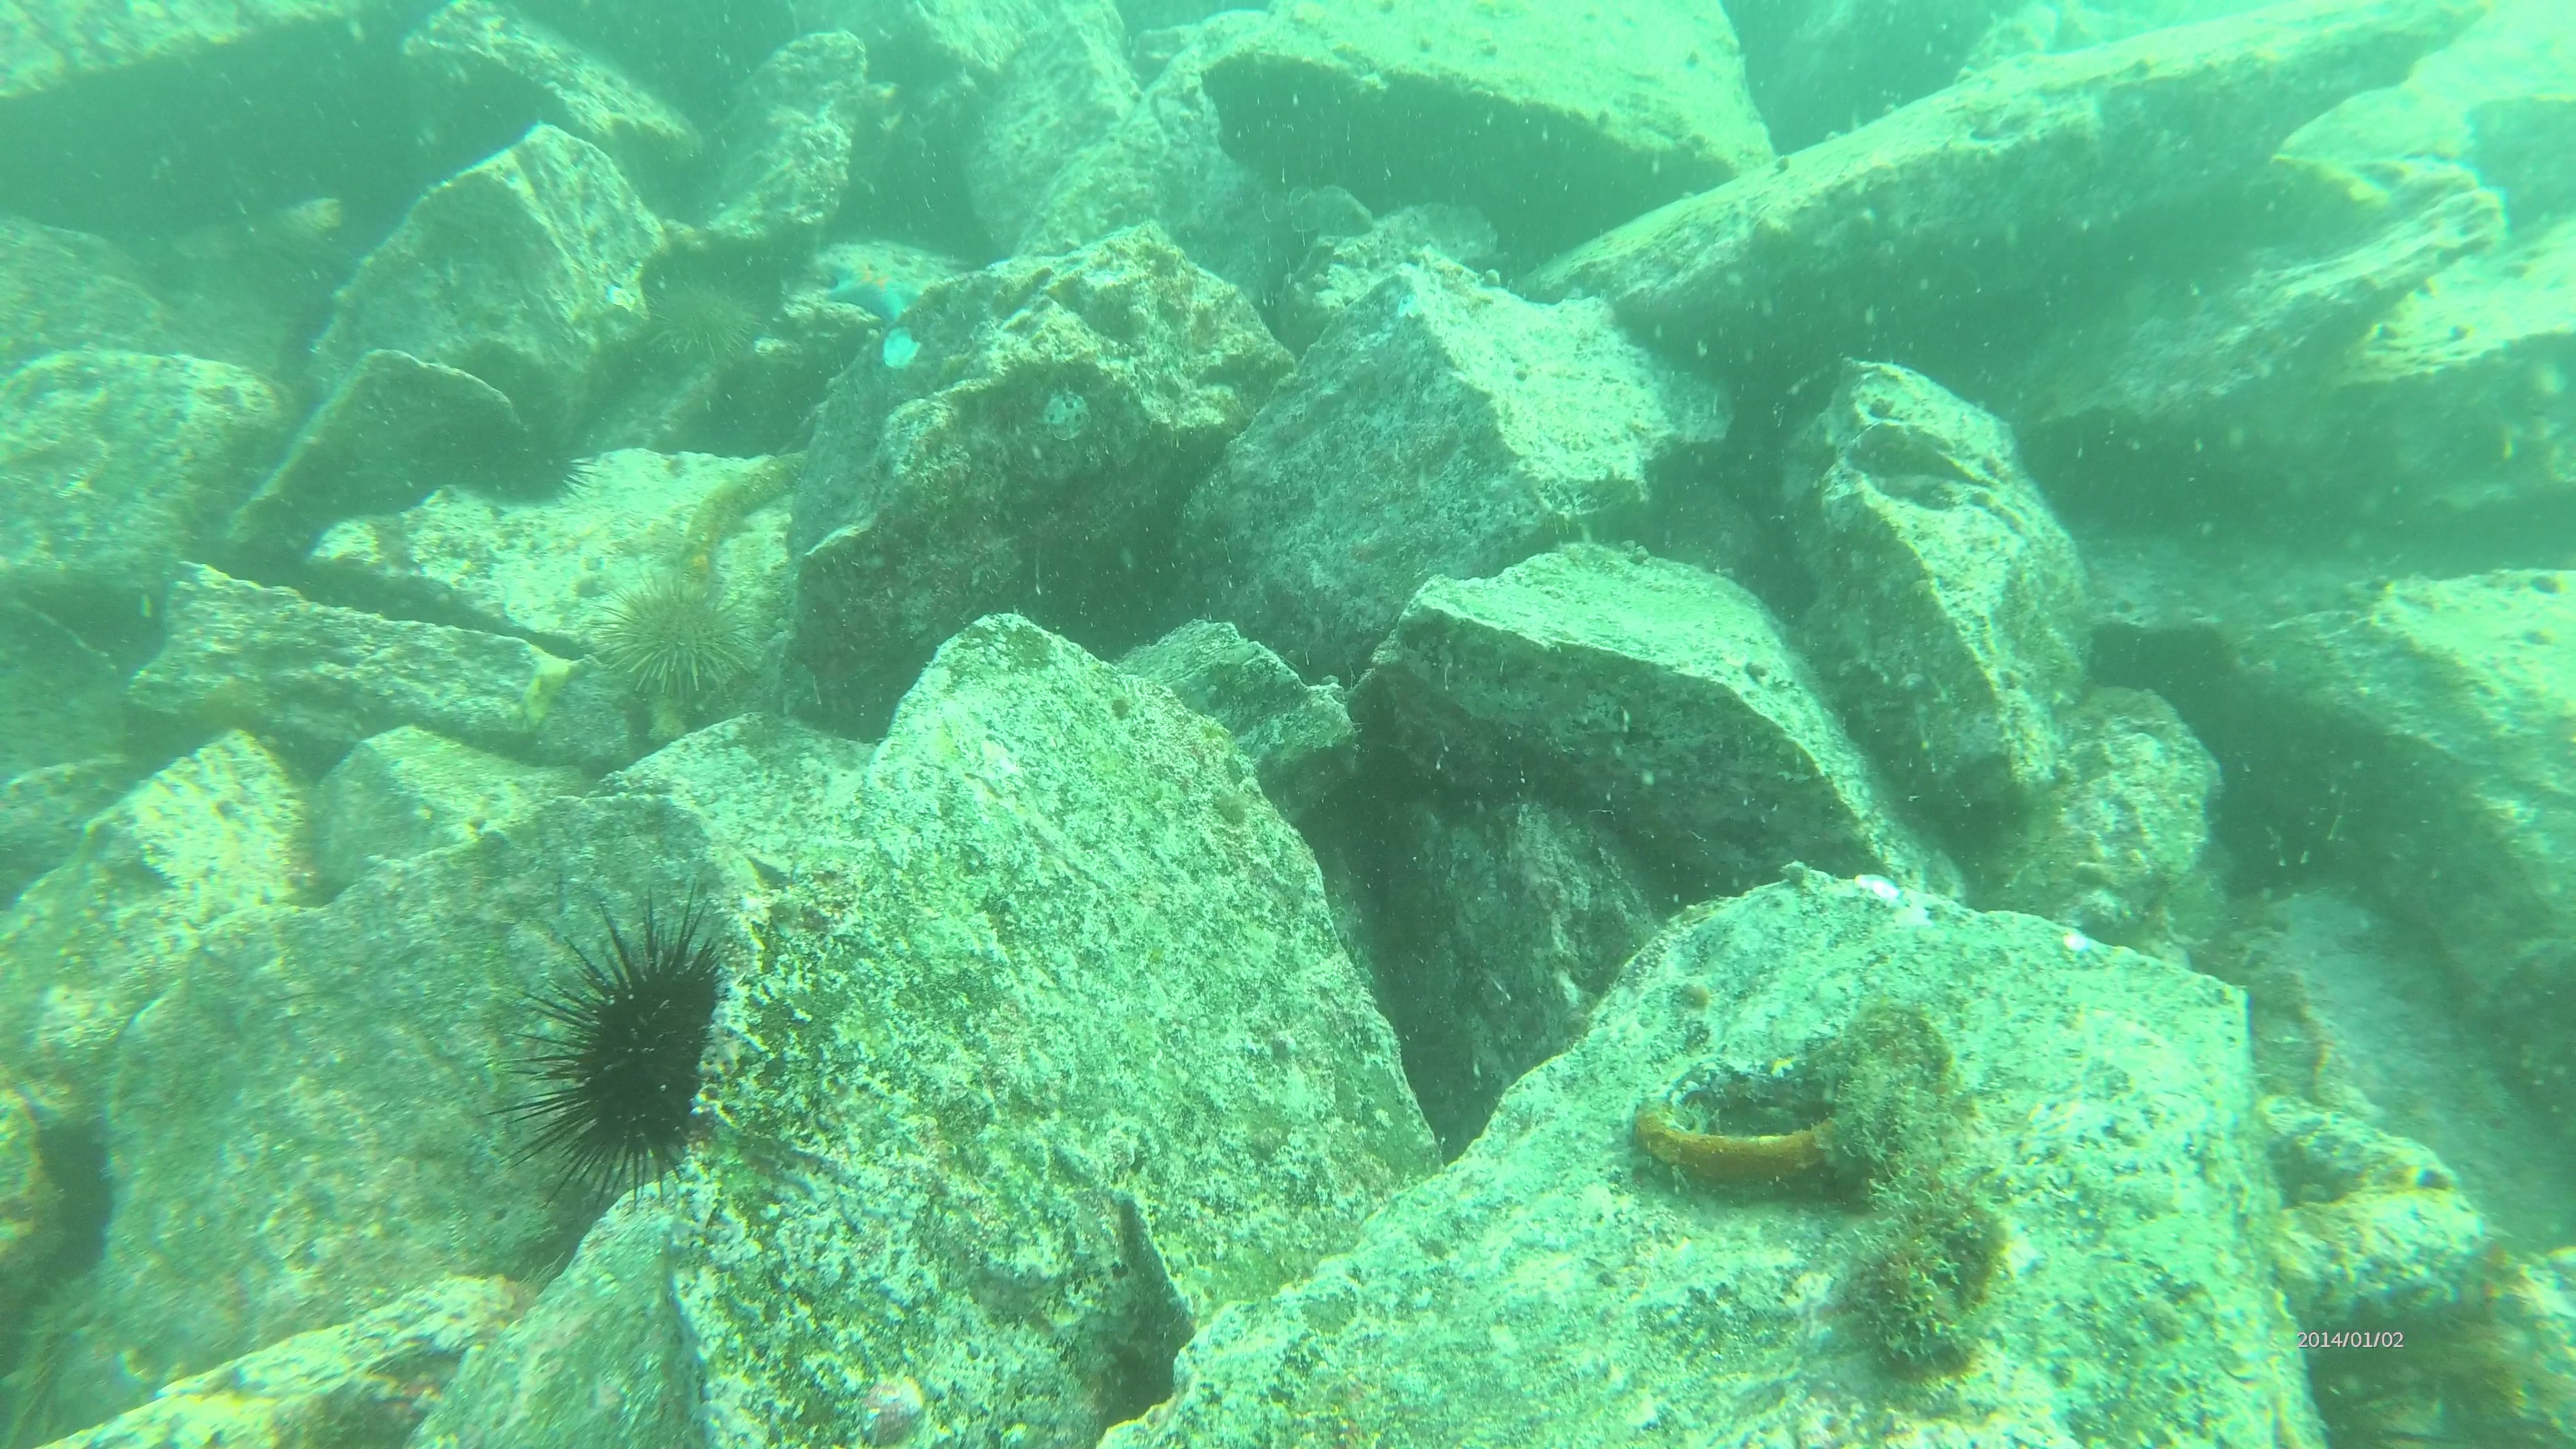echinus: (511, 897, 763, 1214), (393, 407, 605, 511), (596, 589, 759, 690)
starfish: (819, 241, 932, 318)
